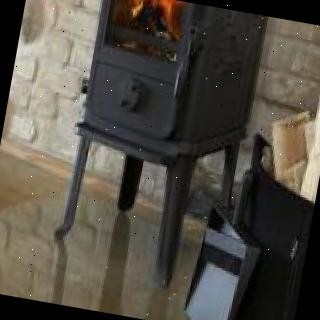fire: (122, 0, 178, 40)
